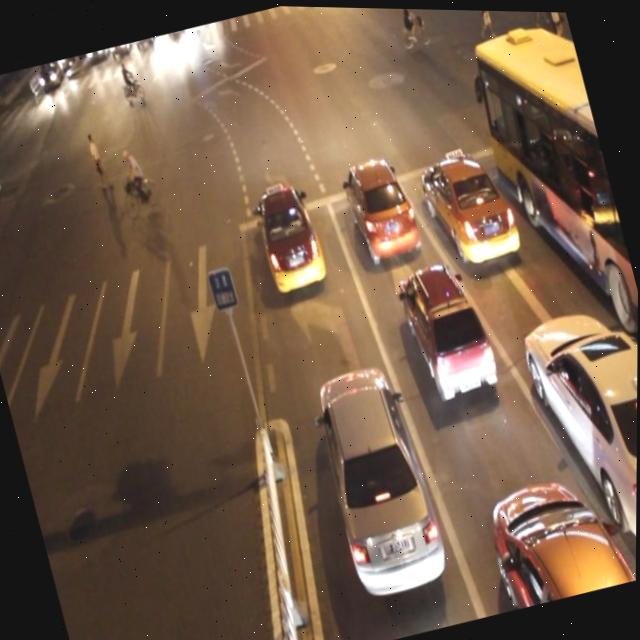car: (304, 350, 451, 597), (515, 289, 638, 571), (482, 458, 637, 609), (391, 253, 501, 405), (414, 137, 523, 270), (339, 147, 423, 263), (246, 176, 329, 293)
van: (465, 12, 640, 427)
